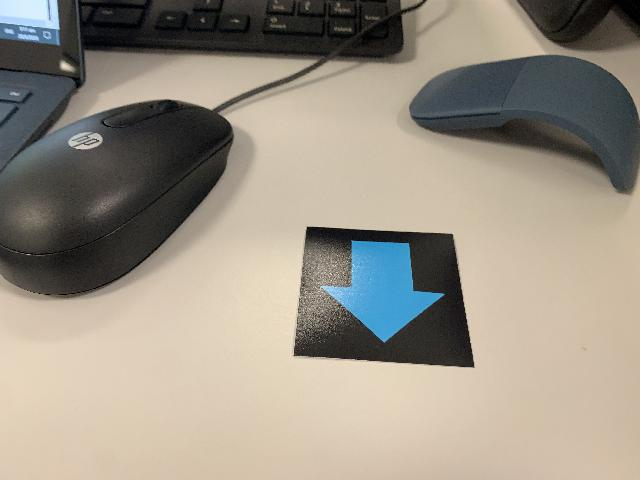down: (290, 225, 477, 370)
